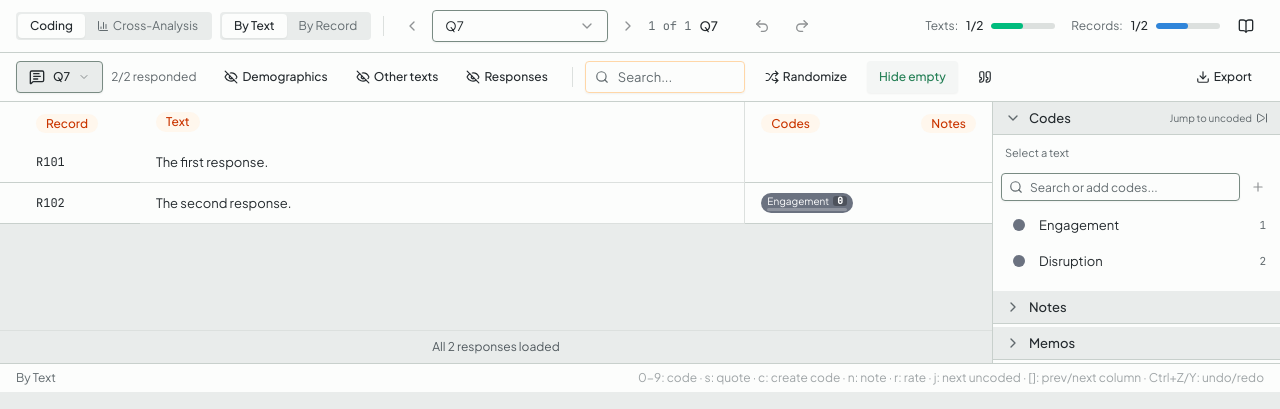
the rating strip on the text-coding surface (#868 d) › `r` re-opens the strip for an application that already exists, seeded at its current rating — a ZERO
Step 1. Click the row "R102 The second response. Engagement 0" → point(496, 204), box left=0, top=183, right=992, bottom=224
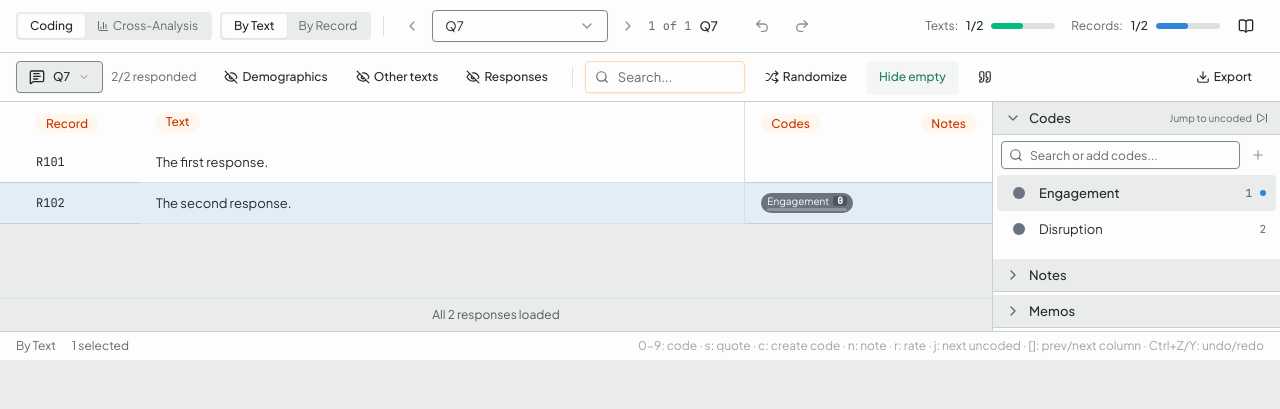
Step 2. Press r
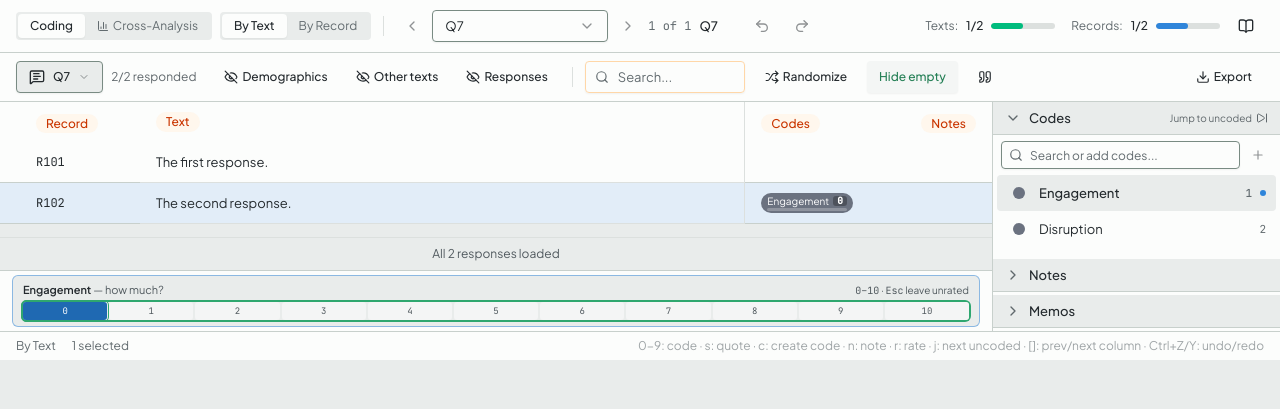
Expected: the element with test id "magnitude-strip" is shown, left=12, top=274, right=980, bottom=327
